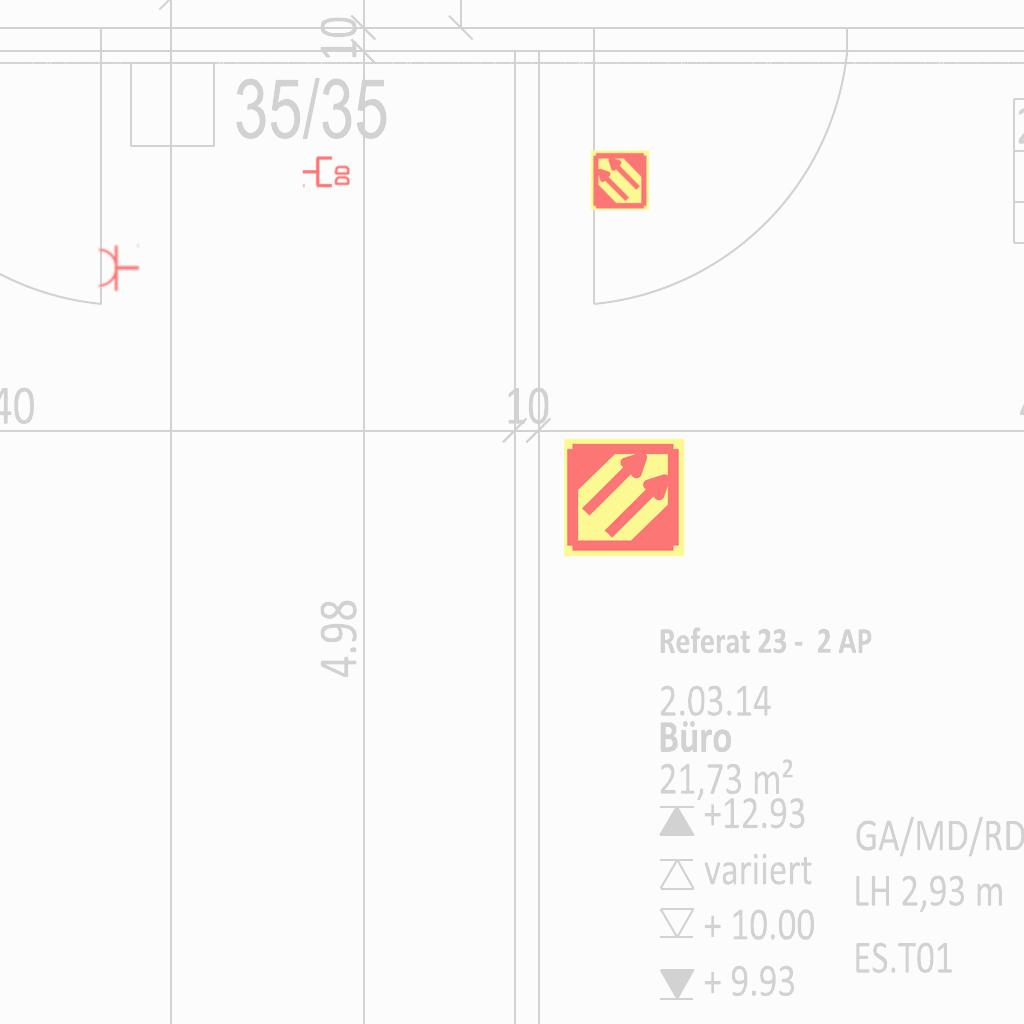ASR_Ansaugrauchmelder: (562, 435, 687, 560), (589, 149, 651, 211)
Datenanschluss_zweifach: (301, 154, 352, 188)
Schukosteckdose_einfach: (97, 242, 140, 292)
